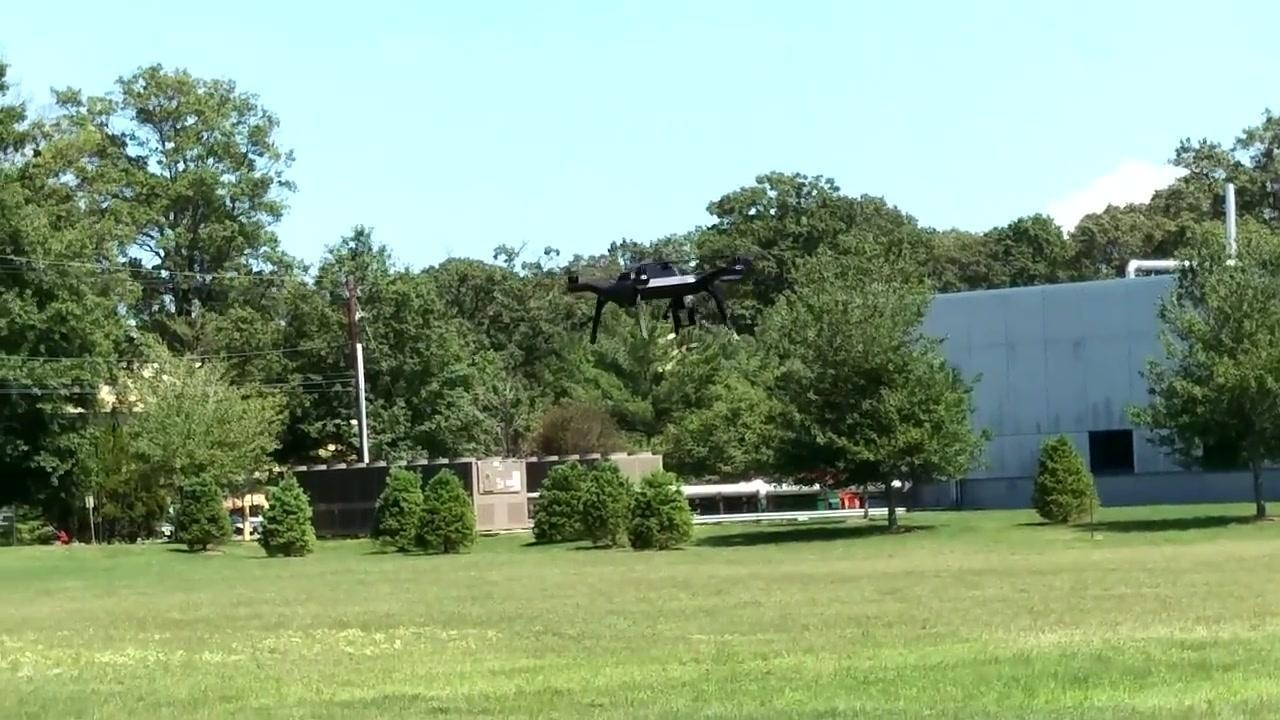UAV: (569, 256, 746, 346)
